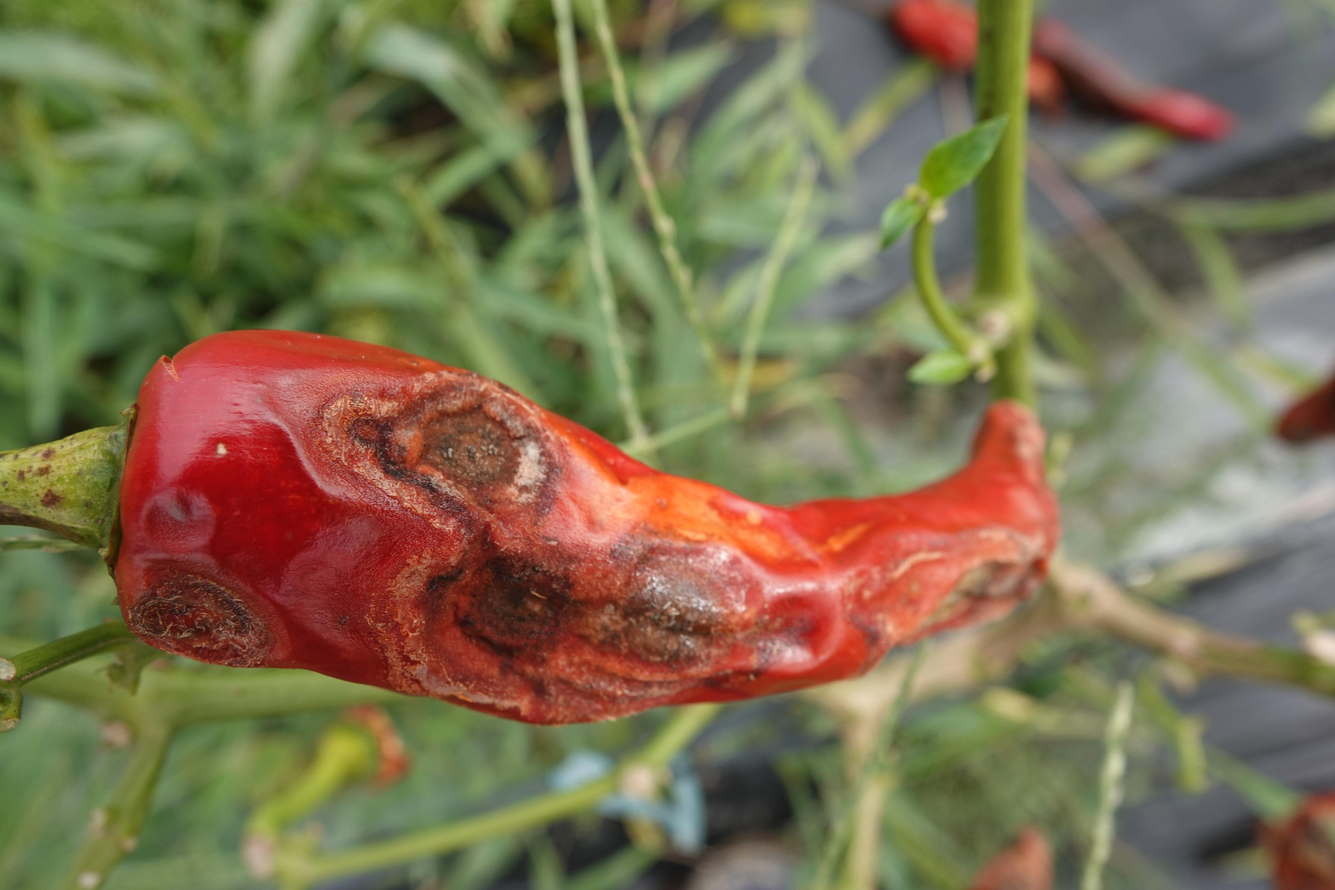Busuk Buah Antraknosa: (99, 323, 1063, 728)
